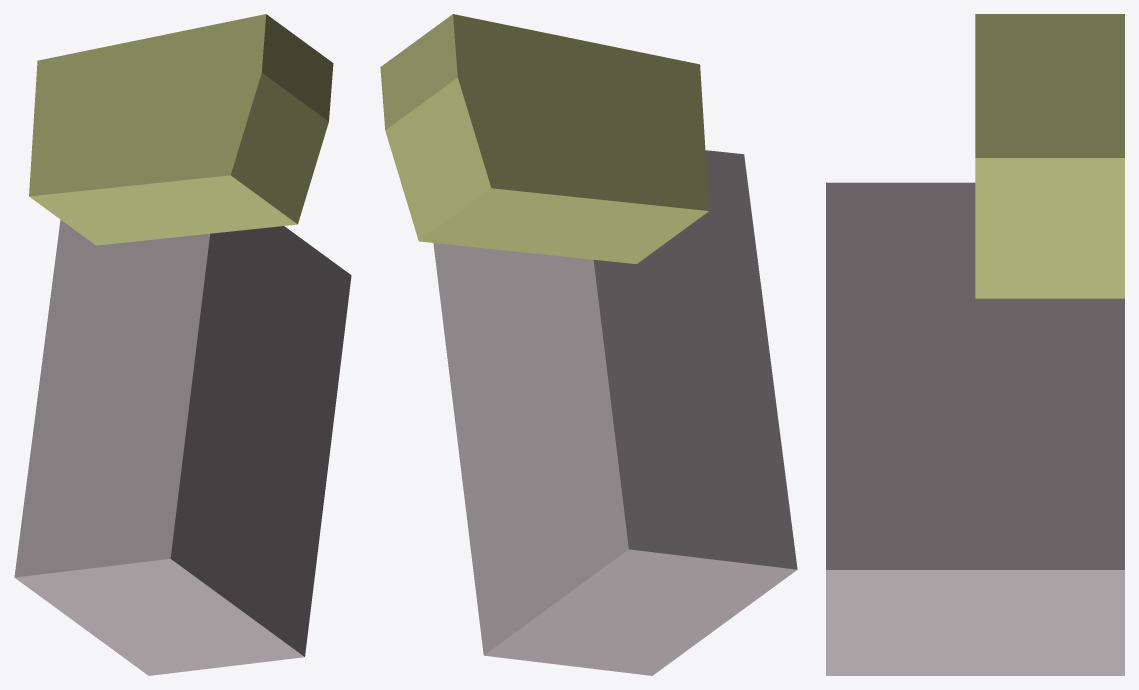
The picture shows the model from 3 angles, left to right: view 1: azimuth 30°, elevation 25°; view 2: azimuth 150°, elevation 25°; view 3: azimuth 270°, elevation 25°; orthographic projection. The views are drawn at different scales.
Parts seen in each view (by area): view 1: 0_3_0_1_2_2_2_2_2_1; view 2: 0_3_0_1_2_2_2_2_2_1; view 3: 0_3_0_1_2_2_2_2_2_1.
Boxes of the visible parts, left/top/right/bottom form: 0_3_0_1_2_2_2_2_2_1: left=14, top=14, right=351, bottom=675; 0_3_0_1_2_2_2_2_2_1: left=380, top=14, right=797, bottom=675; 0_3_0_1_2_2_2_2_2_1: left=826, top=14, right=1124, bottom=675.
Bounding box in the file's own units: 12.98 × 26.14 × 12.
